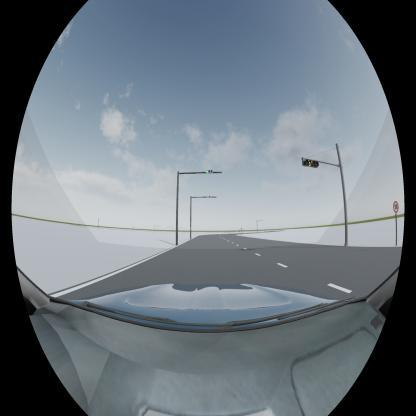Green Light: (206, 170, 214, 174)
